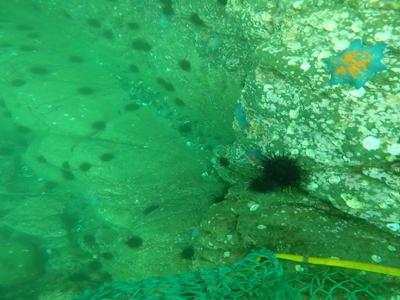scallop: (370, 252, 384, 265)
urchin: (264, 153, 305, 183), (245, 176, 275, 191), (179, 246, 200, 259), (179, 60, 194, 72), (127, 236, 141, 247)
